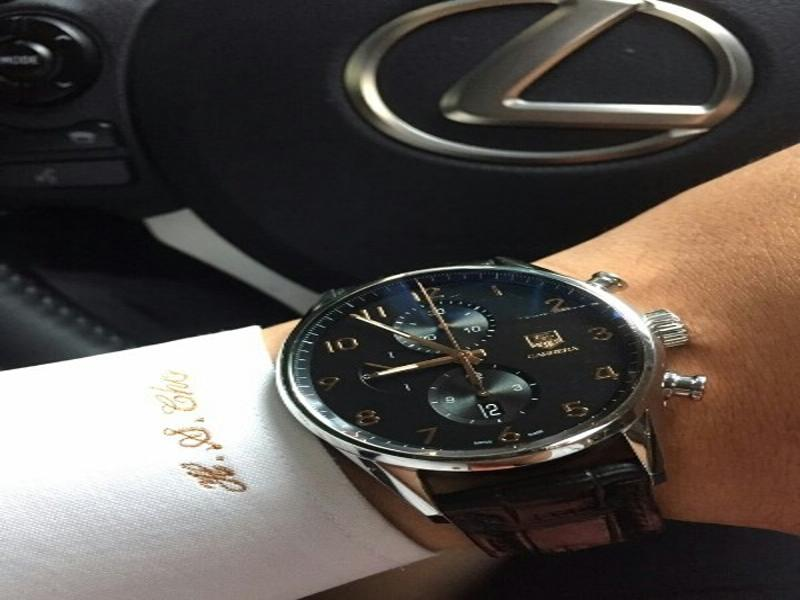watch: (271, 253, 708, 564)
